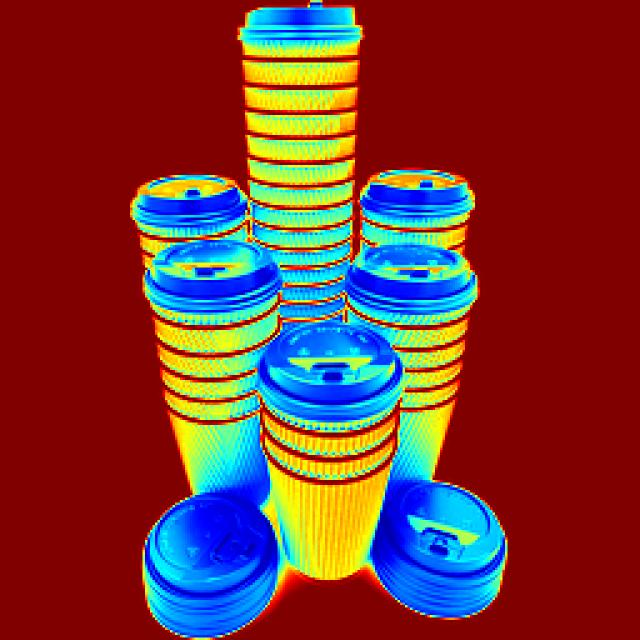Paper Cups: (230, 0, 361, 309), (253, 328, 386, 584), (147, 239, 276, 439), (352, 237, 477, 416), (374, 471, 496, 617), (134, 175, 236, 243)
